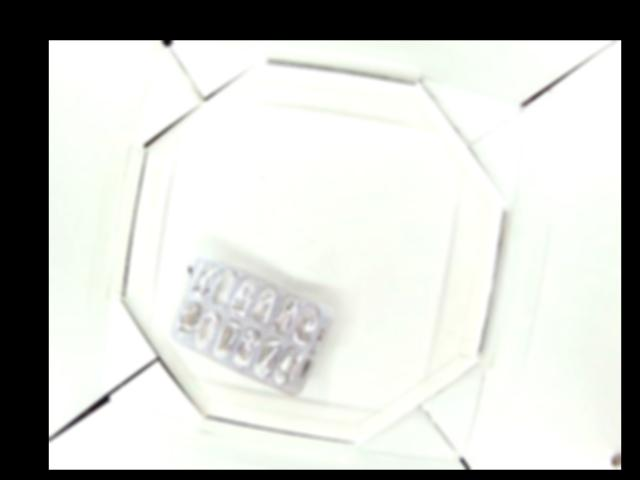Medicine: (170, 258, 336, 398)
